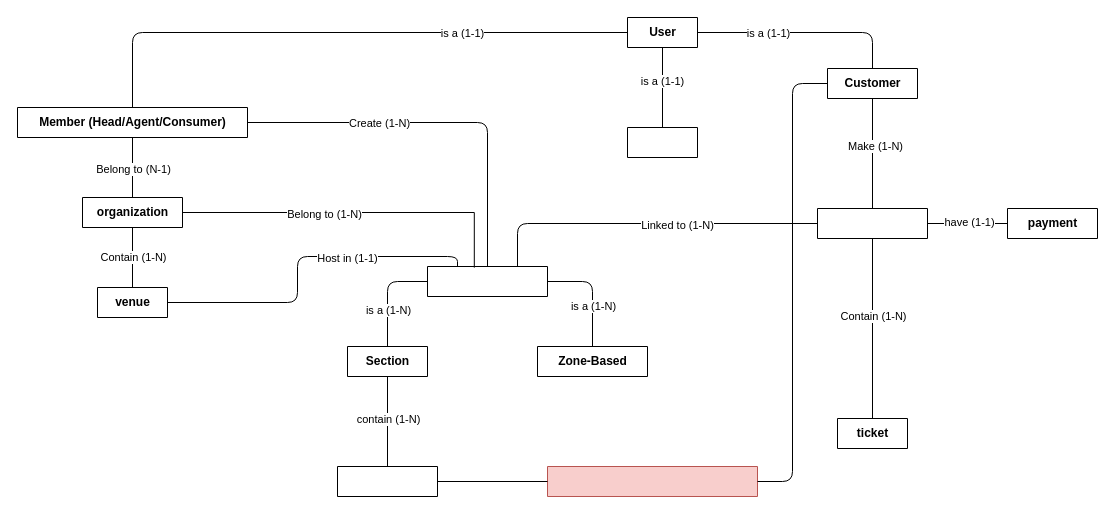
This 1115x514 diagram has some shape labels left out. Each missing label, with the centre of its shape:
Admin: [662,142]
Event: [487,281]
reservation: [872,223]
Seat Lock (Redis): [652,481]
Seats: [387,481]
